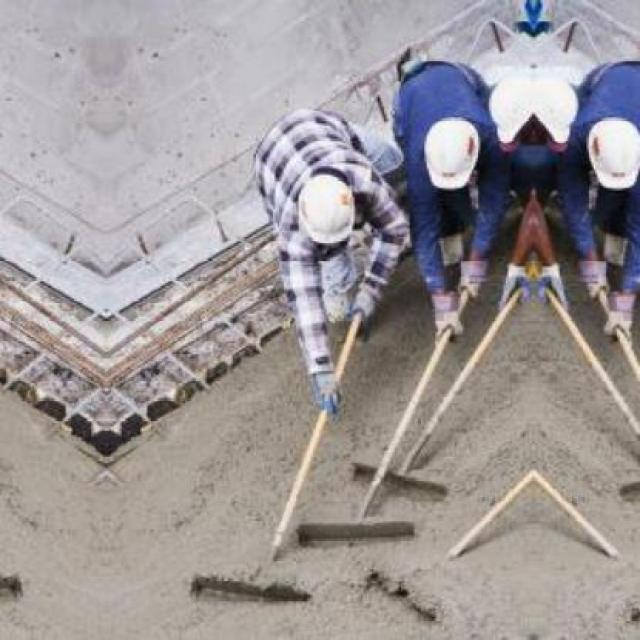helmet: (420, 104, 485, 194), (580, 103, 637, 195), (298, 163, 354, 252)
